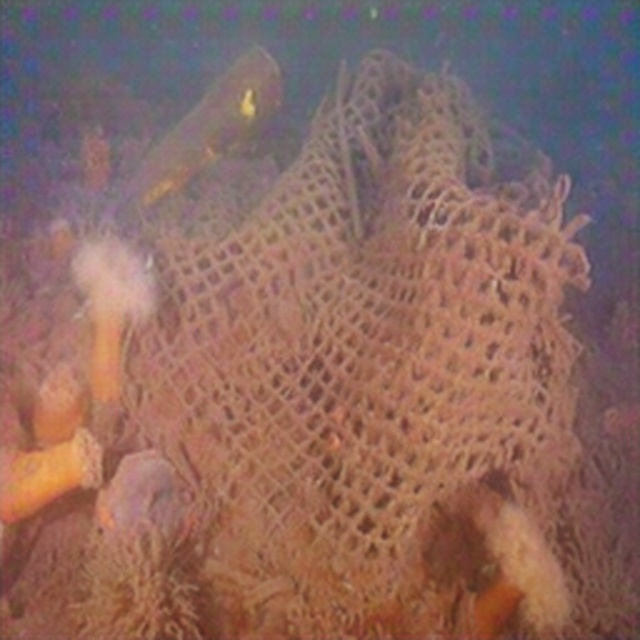mine: (148, 41, 589, 632)
